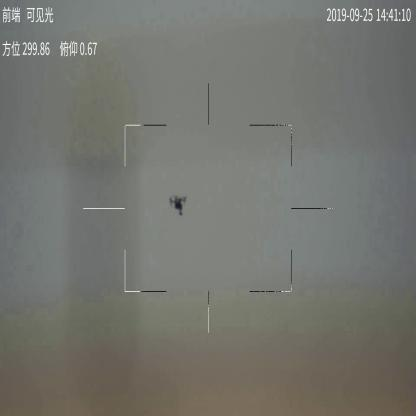uav: (170, 193, 192, 215)
